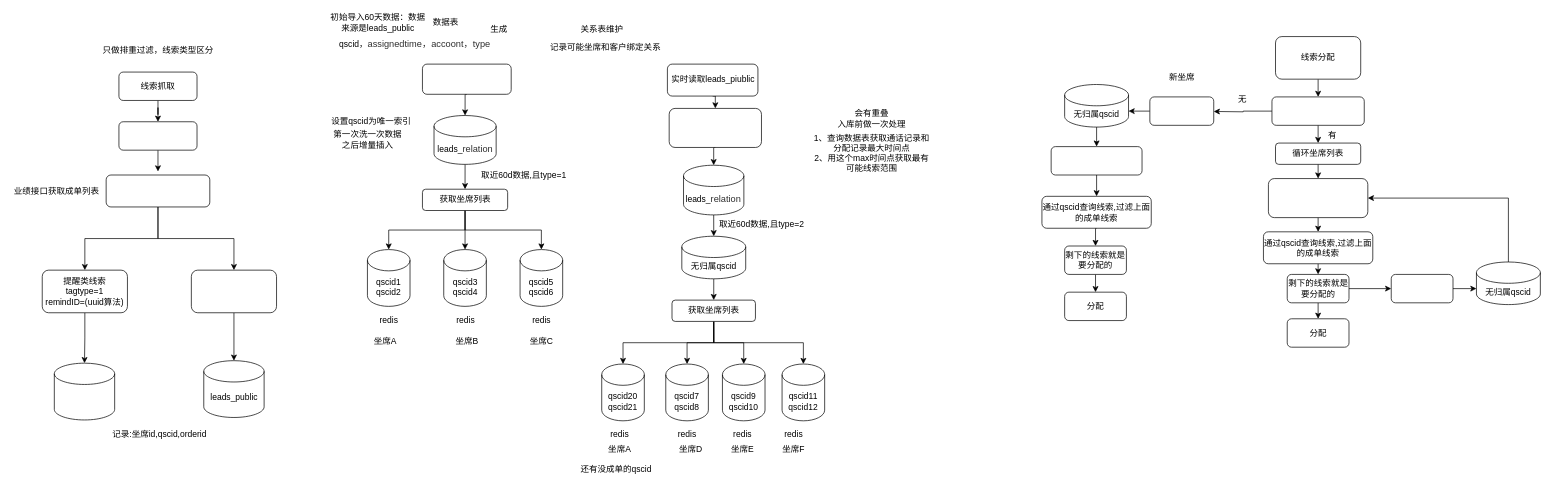
Some shapes in this 1553 by 489 pixel diagram are drawn without their labels. Each missing label, with the centre of its shape:
"leads_msg" goes at pixel 84 391.
"不够在无归属qscid取数据" goes at pixel 1422 288.
"从无归属获取" goes at pixel 1181 110.
"实时读取 leads_msg" goes at pixel 466 78.
"普通类线索 tagtype=2 remindID=0" goes at pixel 234 291.
"查询redis查询qscid 通过qscid获取成单列表" goes at pixel 1318 198.
"根据qsid查询成单列表" goes at pixel 157 190.
"获取坐席列表 获取是否有坐席集合" goes at pixel 1317 110.
"获取近60天内通话记录 获取近60天内分配记录 无归属记录" goes at pixel 714 127.
"过滤条件" goes at pixel 157 135.
"通过qscid获取成单列表" goes at pixel 1096 160.
